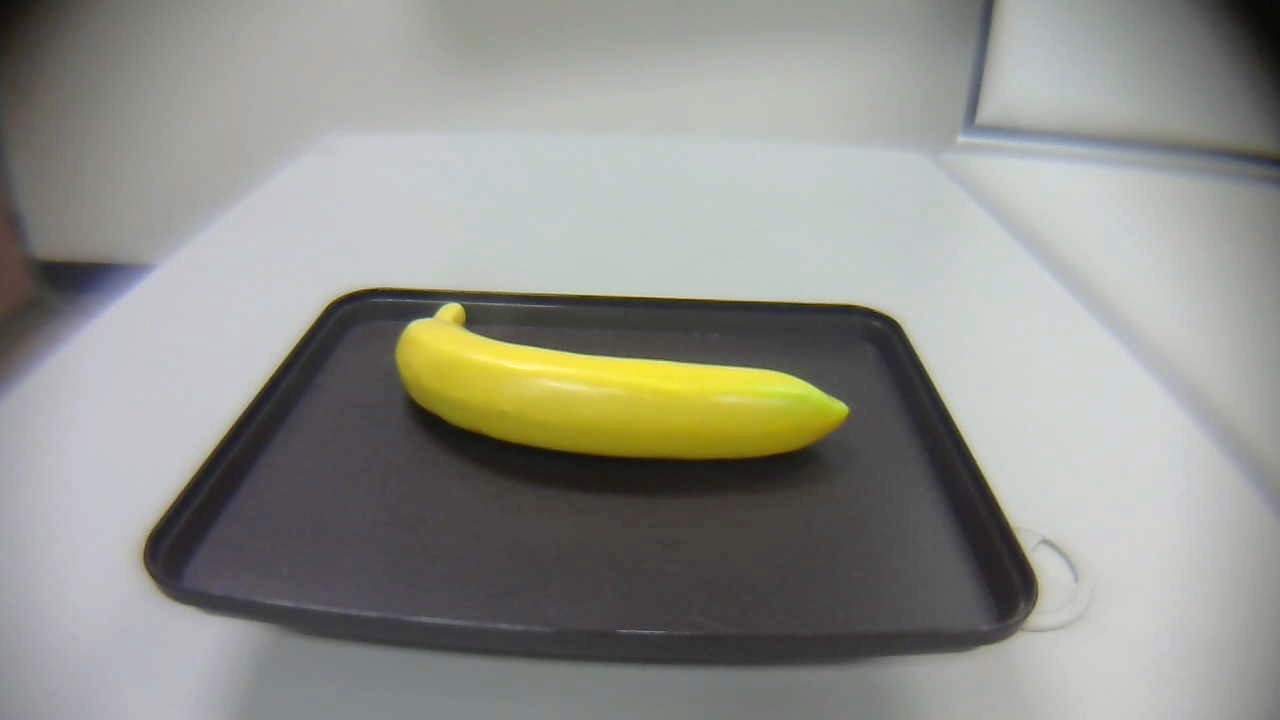banana: (389, 284, 865, 487)
